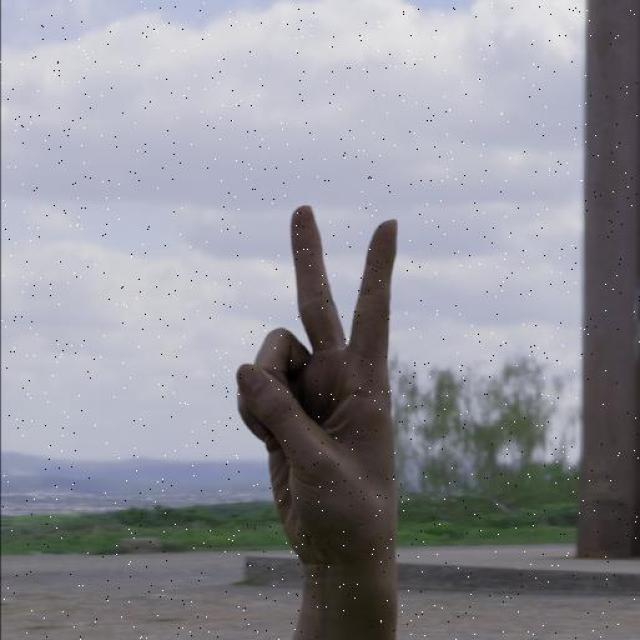V: (230, 192, 408, 570)
